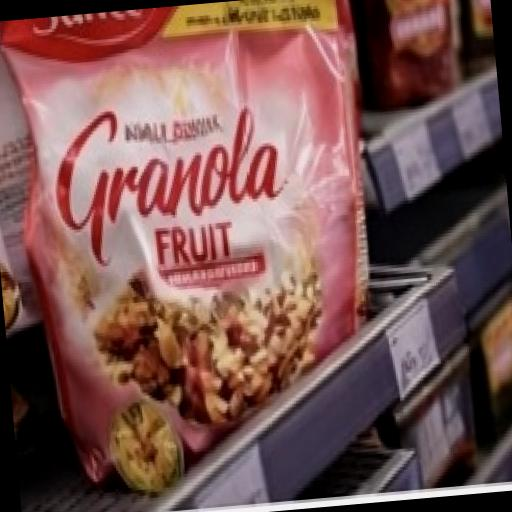granola: (0, 0, 394, 505)
